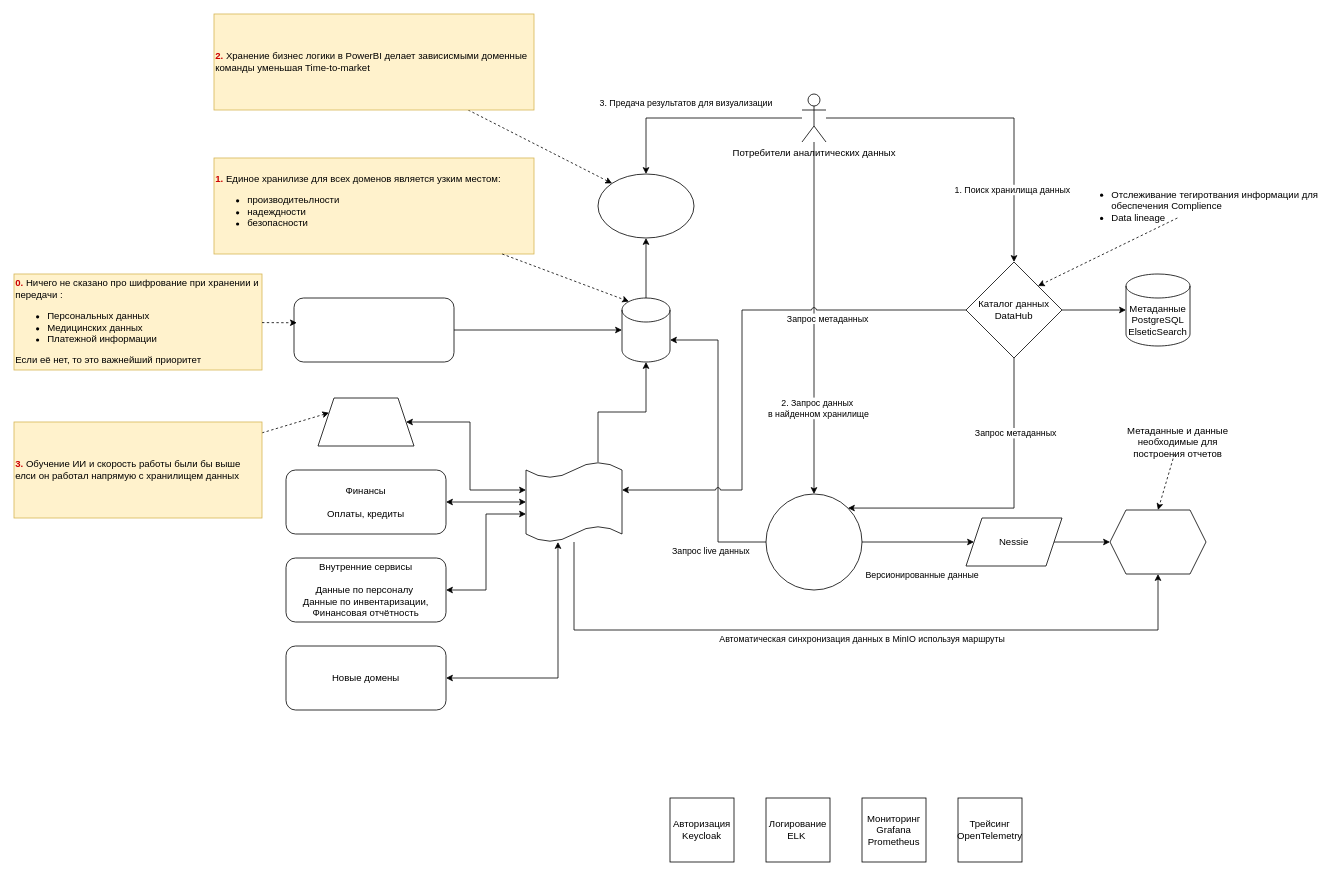
Some shapes in this 1340 by 876 pixel diagram are drawn without their labels. Here are the shapes that lost their labels. From the top down, the centre of each, then its label:
At (645,205): "BI".
At (373,329): "Медицина Данные по клиентам. Медицинские карты и истории болезни".
At (645,329): "DWH MS SQL".
At (365,421): "ИИ Python".
At (573,501): "Интеграционная шина Apache Camel".
At (813,541): "Движок для аналитики Dremio".
At (1157,541): "Хранилище S3 MinIO".
